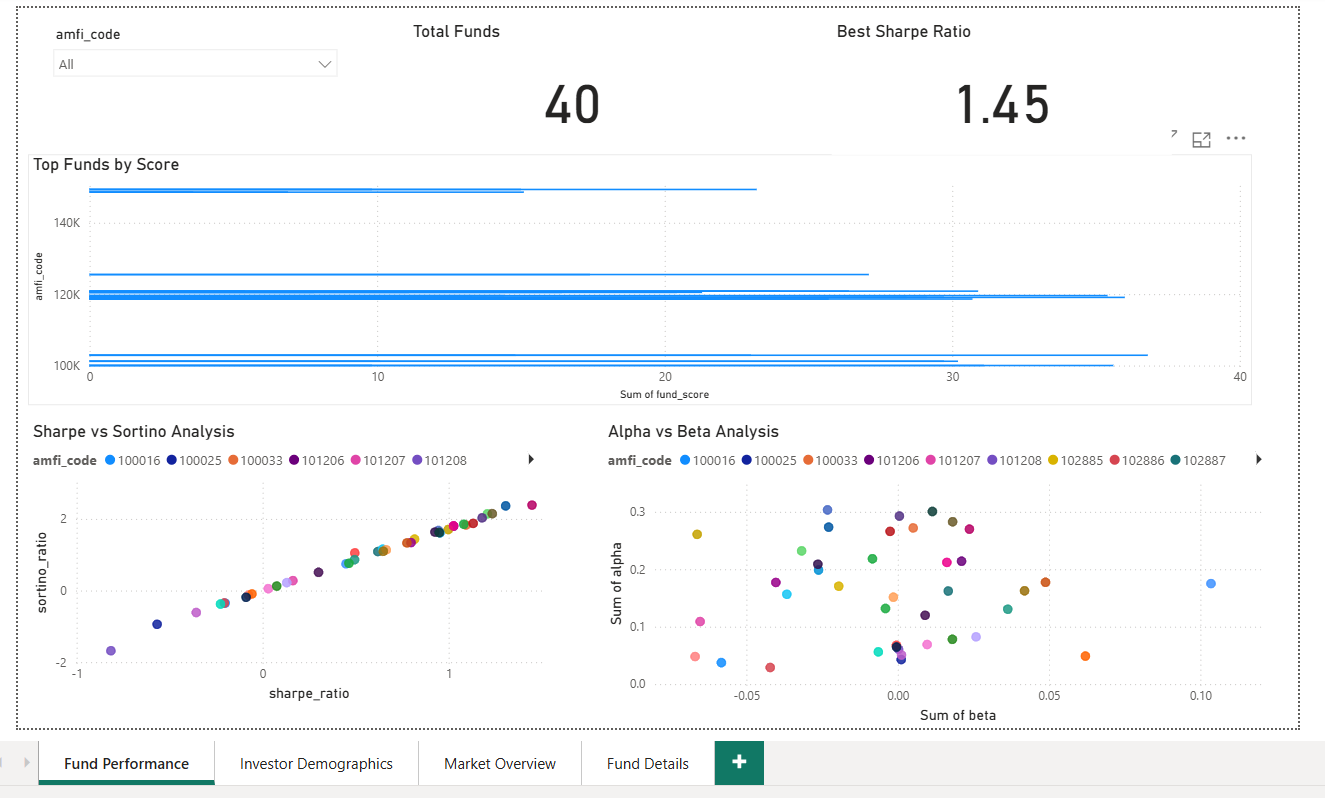

Layout of this report page (visuals, bound fields, positions):
{"tool":"powerbi","page":{"name":"Fund Performance","canvas":[1280,720],"ordinal":0},"visuals":[{"type":"card","title":"Total Funds","fields":{"Values":["CountNonNull(clean_performance.amfi_code)"]},"box":[389.7,12.3,329.3,134.5],"z":0},{"type":"clusteredBarChart","title":"Top Funds by Score","fields":{"Y":["Sum(fund_scorecard.fund_score)"],"Category":["fund_scorecard.amfi_code"]},"box":[9.6,146.8,1224,251.1],"z":1000},{"type":"scatterChart","title":"Sharpe vs Sortino Analysis","fields":{"X":["fund_scorecard.sharpe_ratio"],"Y":["fund_scorecard.sortino_ratio"],"Series":["fund_scorecard.amfi_code"]},"box":[9.6,413,522.8,285.4],"z":2000},{"type":"card","title":"Best Sharpe Ratio","fields":{"Values":["Max(fund_scorecard.sharpe_ratio)"]},"box":[813.7,12.3,340.3,134.5],"z":3000},{"type":"scatterChart","title":"Alpha vs Beta Analysis","fields":{"X":["Sum(alpha_beta.beta)"],"Y":["Sum(alpha_beta.alpha)"],"Series":["alpha_beta.amfi_code"]},"box":[584.6,413,675.1,307.4],"z":4000},{"type":"slicer","fields":{"Values":["fund_scorecard.amfi_code"]},"box":[24.7,12.3,304.6,123.5],"z":4001}]}

Visuals, with their boxes on the page's 1280x720 design canvas (x1, y1, x2, y2). These are canvas units, not pixel positions in the 1325x798 screenshot, which may show the page scaled, cropped or inside an application window:
"Total Funds" card: (390,12,719,147)
"Top Funds by Score" clusteredBarChart: (10,147,1234,398)
"Sharpe vs Sortino Analysis" scatterChart: (10,413,532,698)
"Best Sharpe Ratio" card: (814,12,1154,147)
"Alpha vs Beta Analysis" scatterChart: (585,413,1260,720)
slicer - fund_scorecard.amfi_code: (25,12,329,136)
